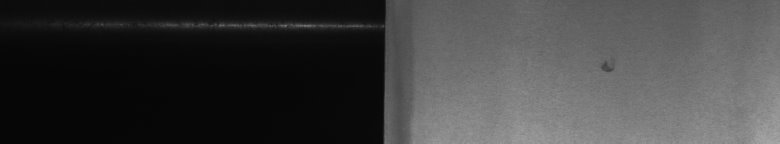fi: (597, 56, 616, 80)
